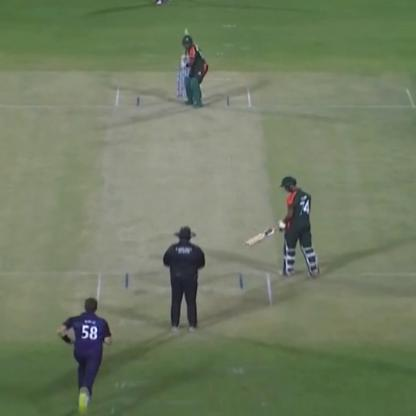bat: (178, 25, 194, 81), (248, 221, 278, 249)
pitch: (88, 87, 274, 316)
